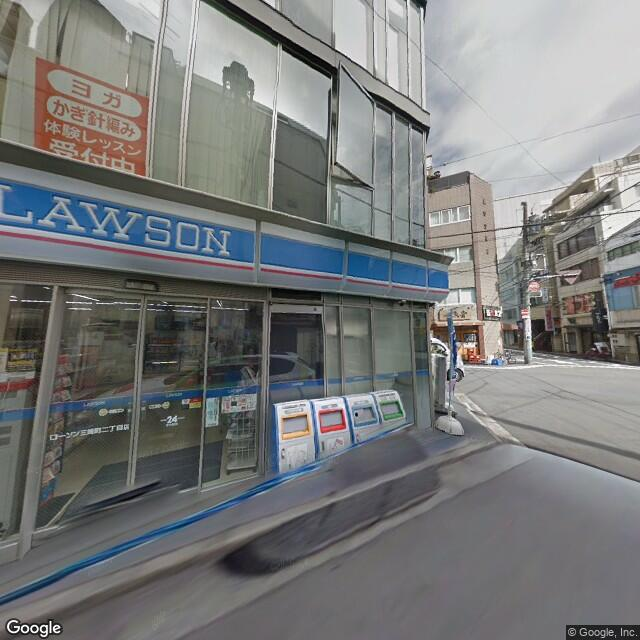lawson: (1, 150, 449, 301)
